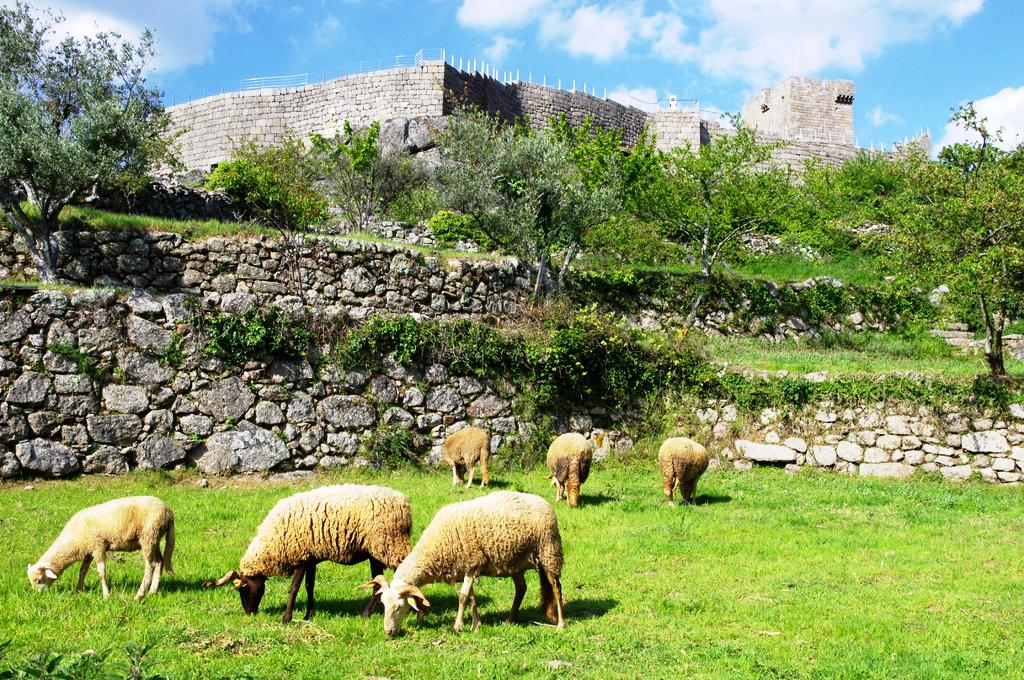Sheep: (374, 494, 578, 637), (234, 482, 414, 624), (23, 497, 181, 602), (658, 438, 710, 510), (438, 424, 496, 486), (543, 433, 590, 502)
